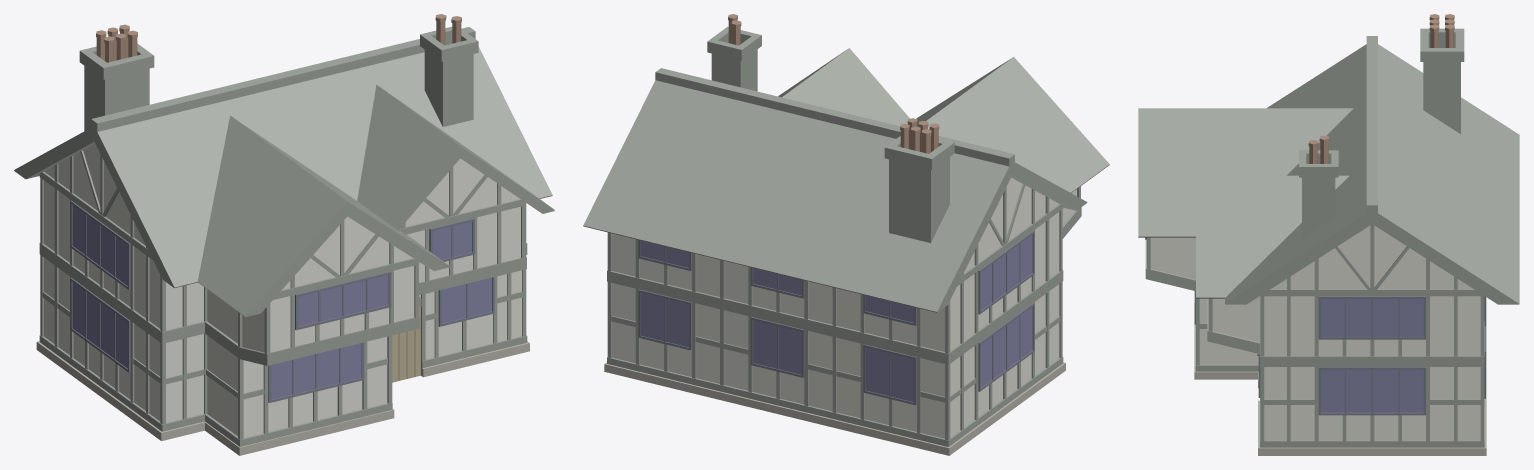
File: 964_house.glb
The picture shows the model from 3 angles, left to right: view 1: azimuth 30°, elevation 25°; view 2: azimuth 150°, elevation 25°; view 3: azimuth 270°, elevation 25°; orthographic projection. The views are drawn at different scales.
Parts seen in each view (by area): view 1: body; view 2: body; view 3: body.
Boxes of the visible parts, <box> form: body: <box>14,14,554,455</box>; body: <box>583,14,1109,455</box>; body: <box>1138,14,1519,455</box>.
Bounding box in the file's own units: 12.3 × 9.98 × 11.7.
